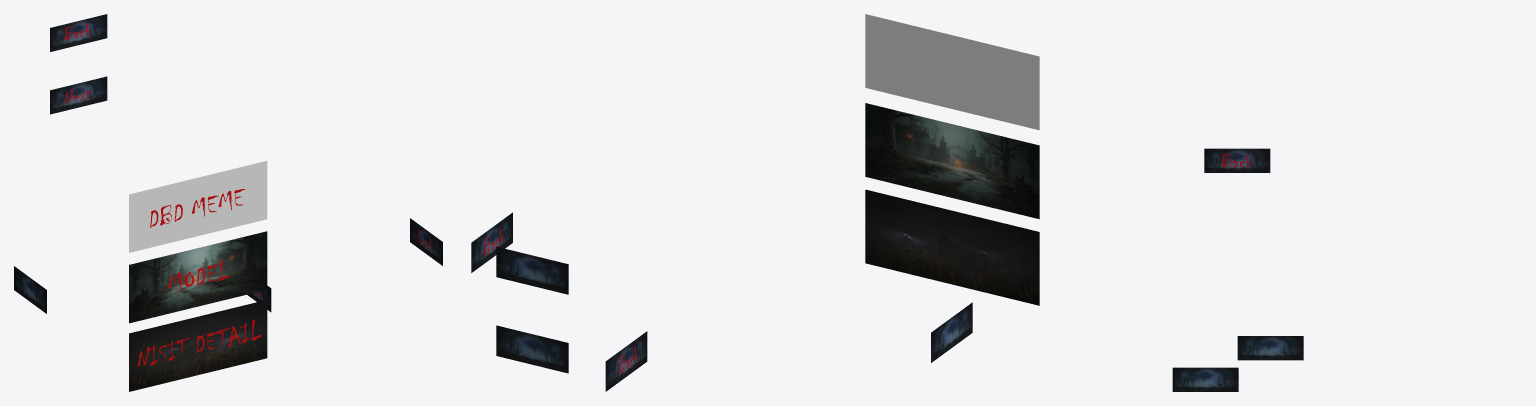
File: sign.glb
3 views of the same model, side by side, from view 1: azimuth 30°, elevation 25°; view 2: azimuth 150°, elevation 25°; view 3: azimuth 270°, elevation 25° (orthographic). The views are drawn at different scales.
Parts seen in each view (by area): view 1: Plane.004, Plane.002, Plane.003, Plane.008, Plane.005, Plane.006, Plane.009, Text.003, Text.001, Text.002; view 2: Plane.002, Plane.003, Plane.004, Plane.005, Plane.008, Plane.007, Plane.006, Plane.009; view 3: Plane.007, Plane.009, Plane.006.
Part boxes in pixels (box(x1,y1,x2,y2)): Plane.004: box(129, 231, 267, 323); Plane.002: box(129, 161, 267, 252); Plane.003: box(129, 300, 267, 391); Plane.008: box(50, 76, 107, 114); Plane.005: box(50, 14, 107, 51); Plane.006: box(14, 266, 46, 313); Plane.009: box(410, 218, 442, 265); Text.003: box(137, 320, 260, 366); Text.001: box(150, 189, 245, 227); Text.002: box(168, 260, 228, 291); Plane.002: box(865, 14, 1039, 130); Plane.003: box(865, 189, 1039, 305); Plane.004: box(865, 103, 1039, 219); Plane.005: box(496, 246, 568, 294); Plane.008: box(496, 325, 568, 373); Plane.007: box(605, 331, 647, 391); Plane.006: box(931, 302, 972, 362); Plane.009: box(471, 212, 512, 272); Plane.007: box(1237, 336, 1303, 360); Plane.009: box(1172, 367, 1238, 391); Plane.006: box(1204, 148, 1270, 172).
Bounding box in the file's own units: 8.69 × 5.14 × 8.97.
16 materials, 7 textured.
